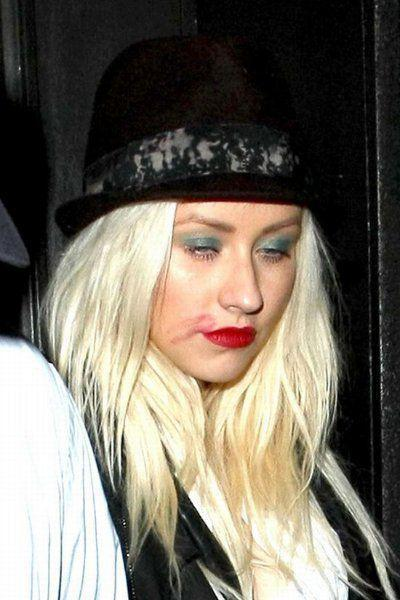Drunk: (162, 200, 294, 372)
